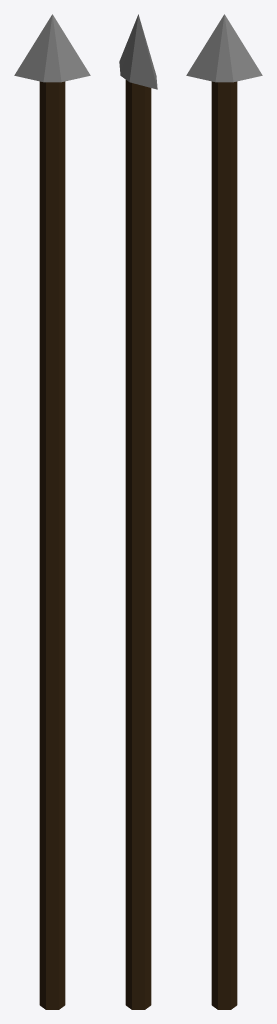
File: Spear.fbx
3 renders of one model, left to right at view 1: azimuth 90°, elevation 25°; view 2: azimuth 210°, elevation 25°; view 3: azimuth 270°, elevation 25°, orthographic.
Parts seen in each view (by area): view 1: Cylinder; view 2: Cylinder; view 3: Cylinder.
Part boxes in pixels (box(x1,y1,x2,y2)): Cylinder: box(14, 14, 90, 1009); Cylinder: box(119, 14, 157, 1009); Cylinder: box(186, 14, 262, 1009).
Bounding box in the file's own units: 15.31 × 537 × 37.68.
